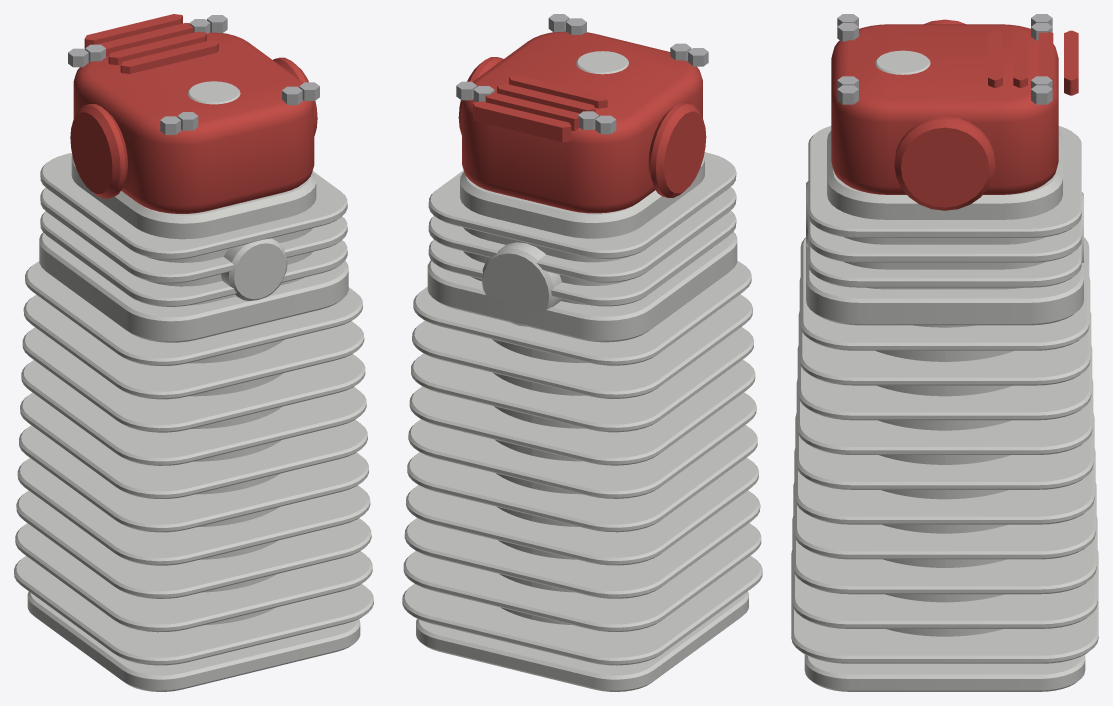
Rendered from hot_cam_1.glb.
3 views of the same model, side by side, from view 1: azimuth 30°, elevation 25°; view 2: azimuth 150°, elevation 25°; view 3: azimuth 270°, elevation 25° (orthographic). The views are drawn at different scales.
Visible parts, largest first — view 1: lod0; view 2: lod0; view 3: lod0.
Part boxes in pixels (bbox=[...]): lod0: bbox=[14, 14, 373, 691]; lod0: bbox=[402, 14, 762, 691]; lod0: bbox=[791, 14, 1098, 691].
Size of what is drawn, in the model's own units: 0.146 by 0.3043 by 0.146.
